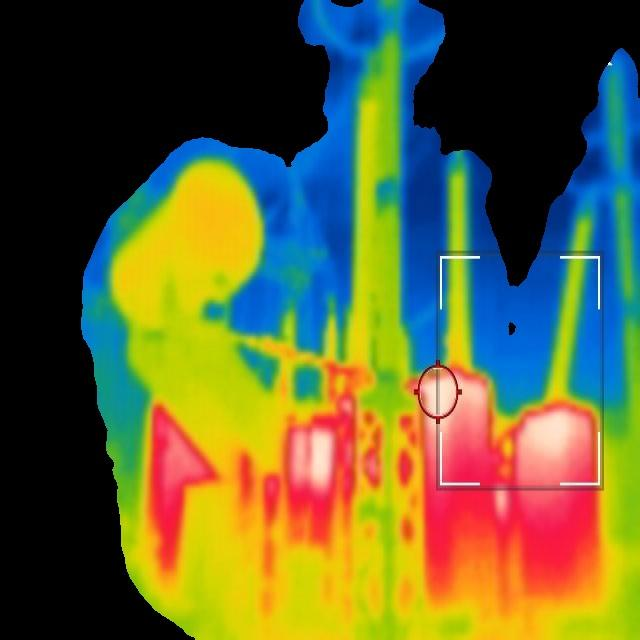Full Wire Overload PF: (228, 327, 329, 374)
Transformer Overload: (142, 371, 594, 623)
